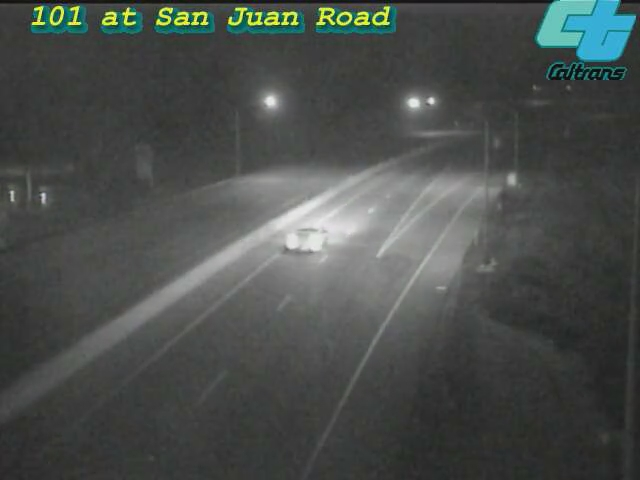vehicle: (263, 200, 343, 280)
